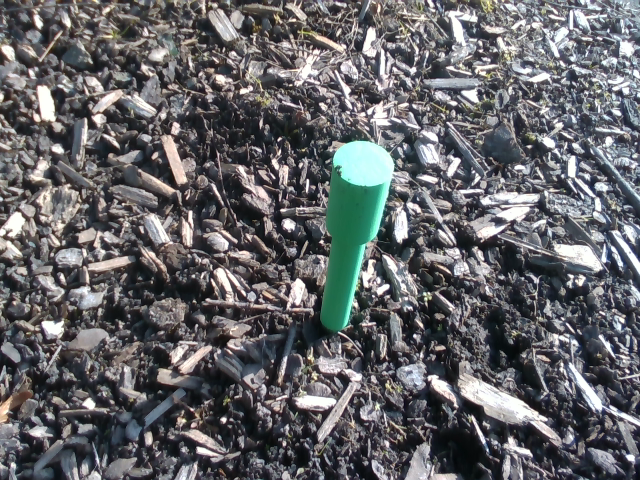Probe: (306, 132, 400, 345)
